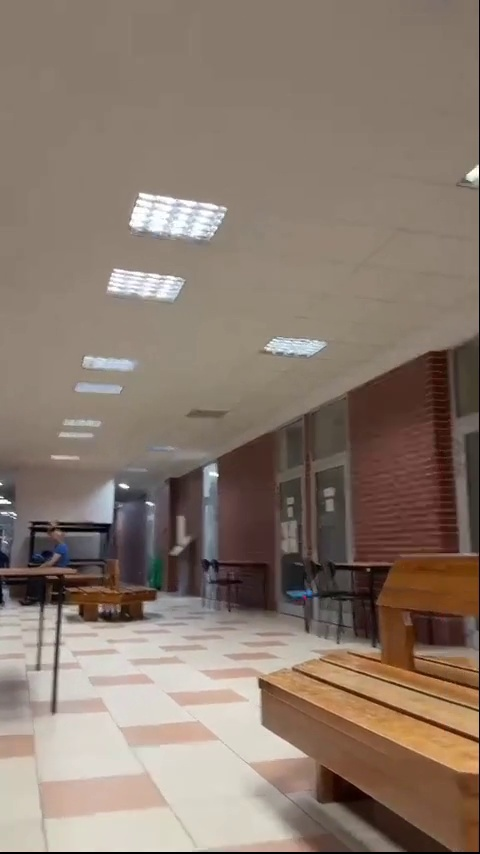drone: (288, 589, 315, 604)
no vest: (31, 519, 72, 575)
